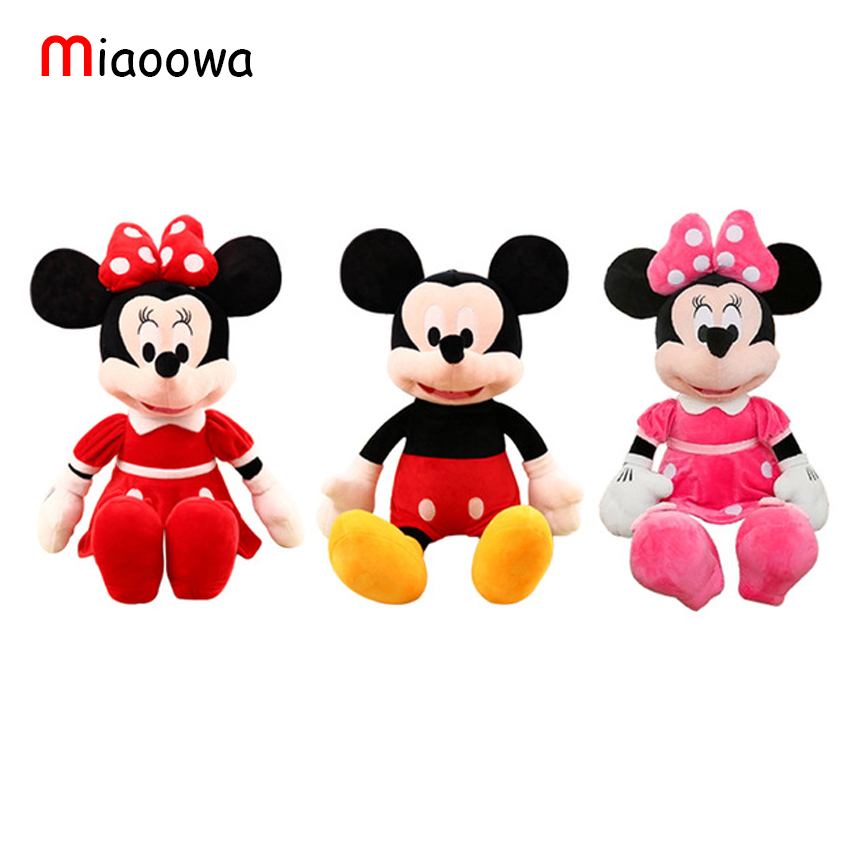Mickey: (338, 225, 574, 408)
